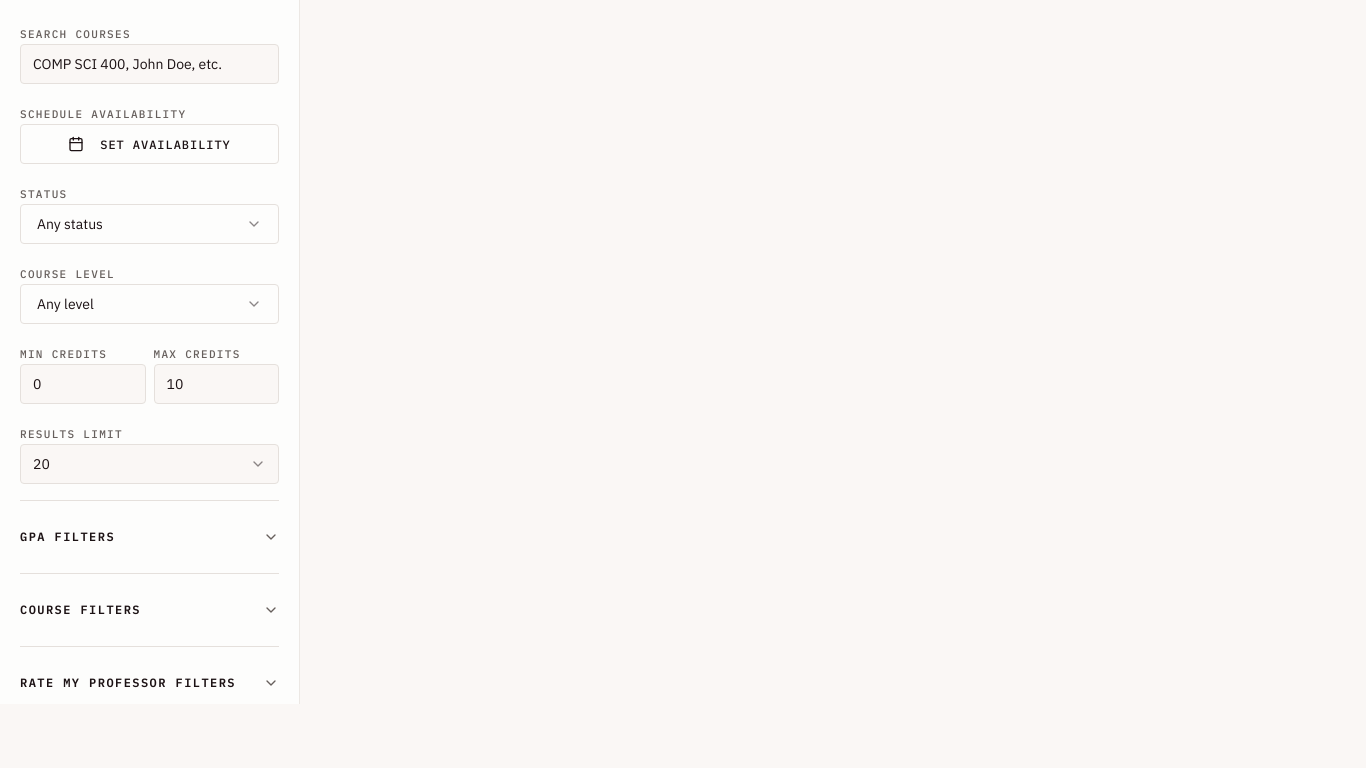
HomePage search › searches for the suggestion that was clicked, not the partial text typed
The width and height of the screenshot is (1366, 768).
Later steps or results of the test are not shown.
Type "dance" into the dropdown with id "search" at (150, 64), box [20,44,279,84]
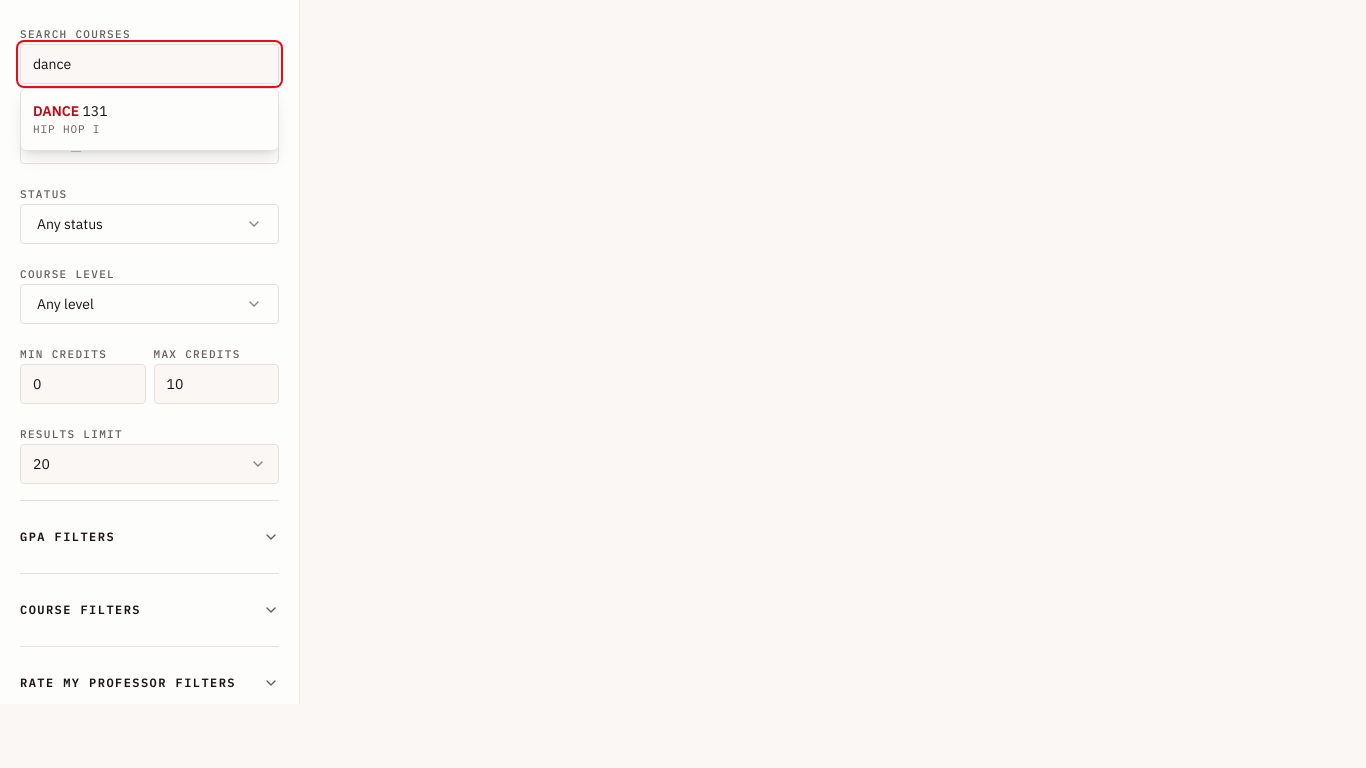
Expected: the option "DANCE 131 Hip Hop I" is shown, [33,102,108,136]
